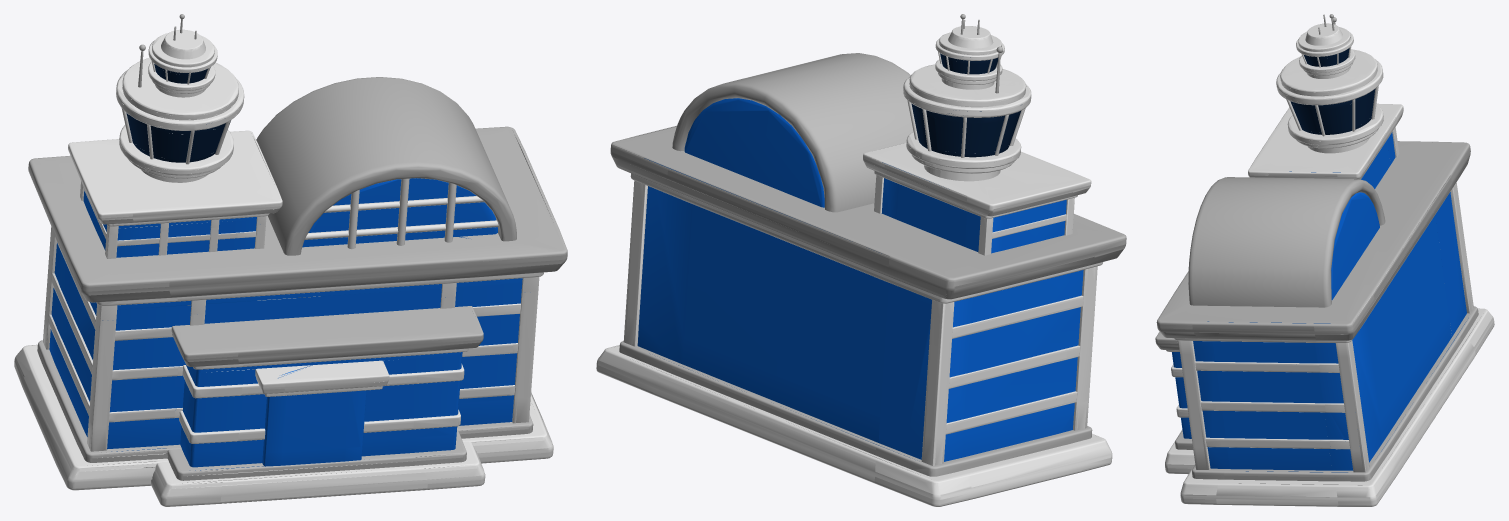
The model's file is airport.glb.
3 views of the same model, side by side, from view 1: azimuth 30°, elevation 25°; view 2: azimuth 150°, elevation 25°; view 3: azimuth 270°, elevation 25° (orthographic). The views are drawn at different scales.
Parts seen in each view (by area): view 1: Cube.135; view 2: Cube.135; view 3: Cube.135.
Boxes of the visible parts, <box> form: Cube.135: <box>14,14,567,506</box>; Cube.135: <box>596,14,1126,506</box>; Cube.135: <box>1155,14,1494,506</box>.
Bounding box in the file's own units: 1 × 0.9057 × 0.7399.
